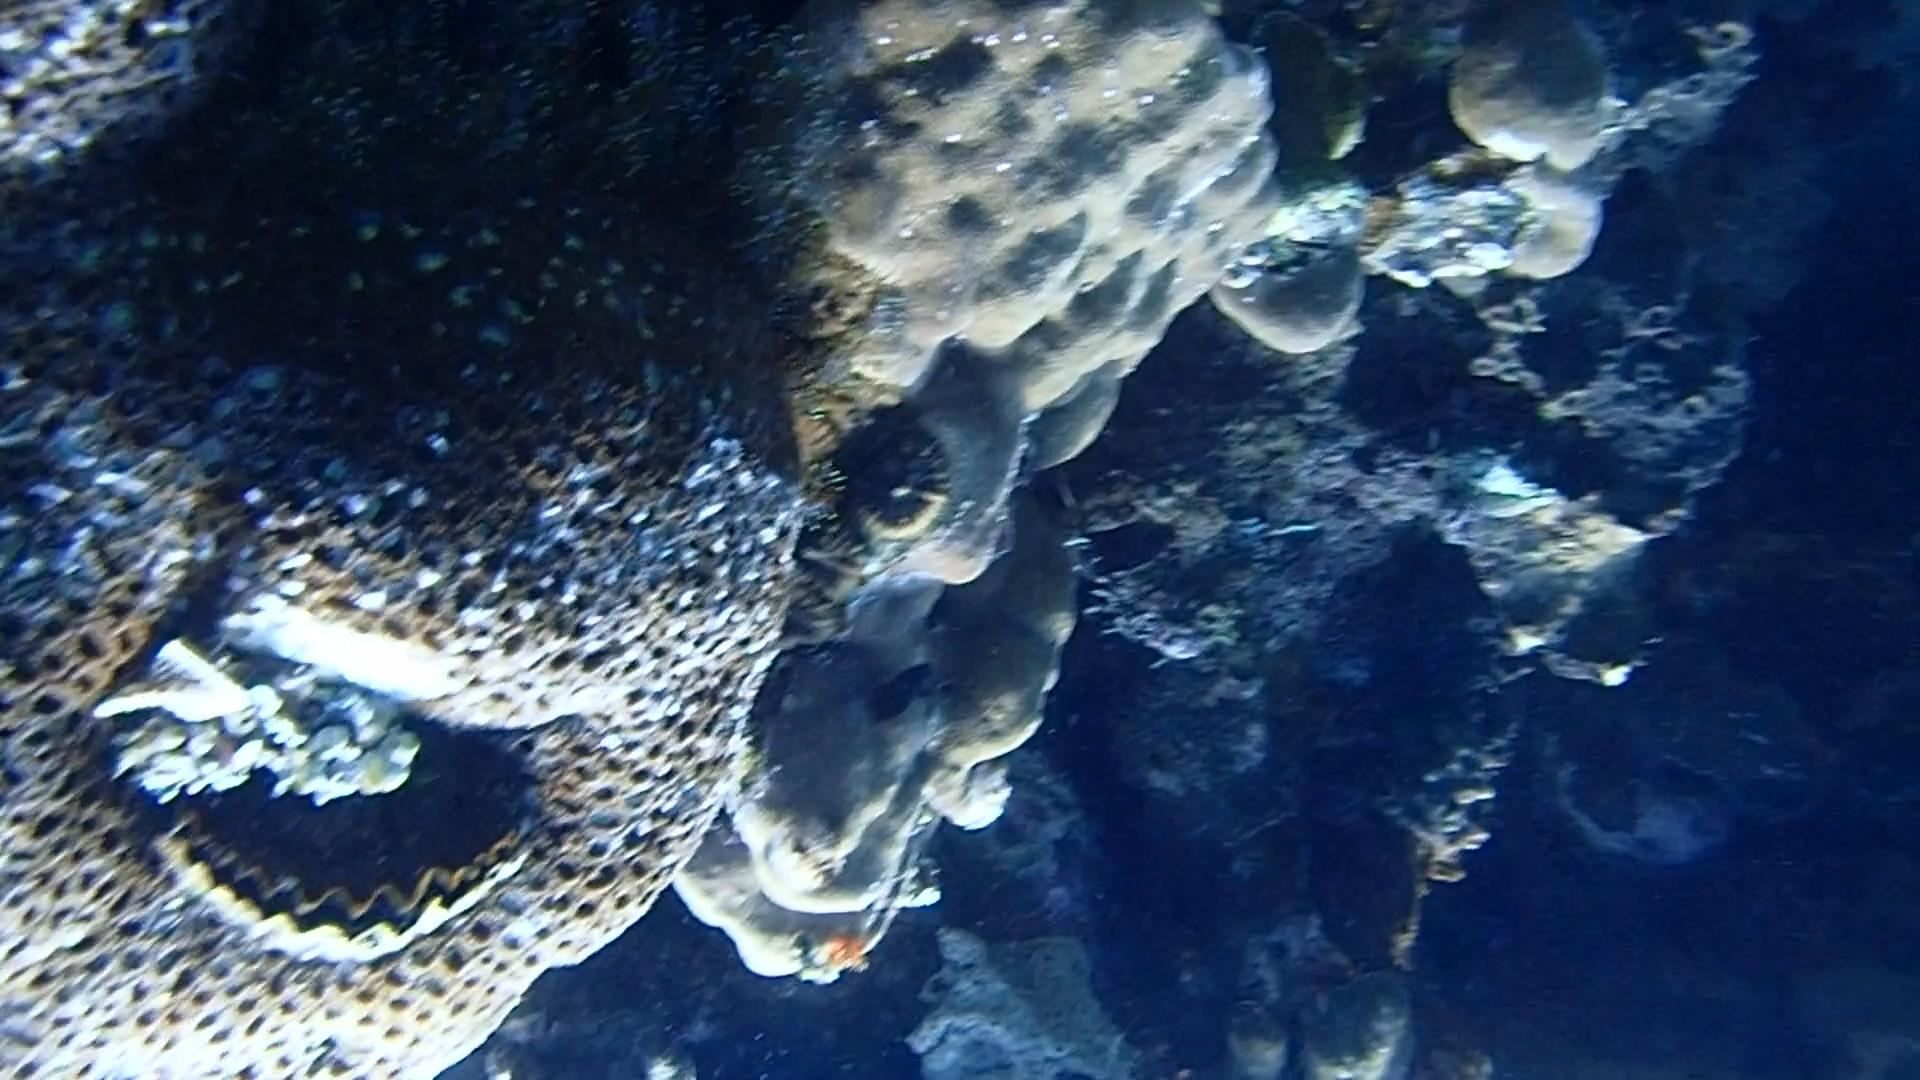Dark Fish: (1063, 506, 1192, 596), (853, 649, 945, 738)
